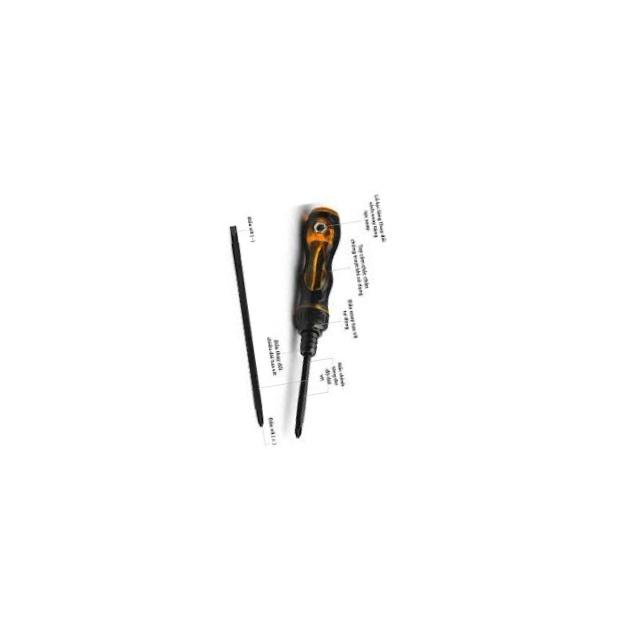screwdriver: (256, 204, 373, 441)
